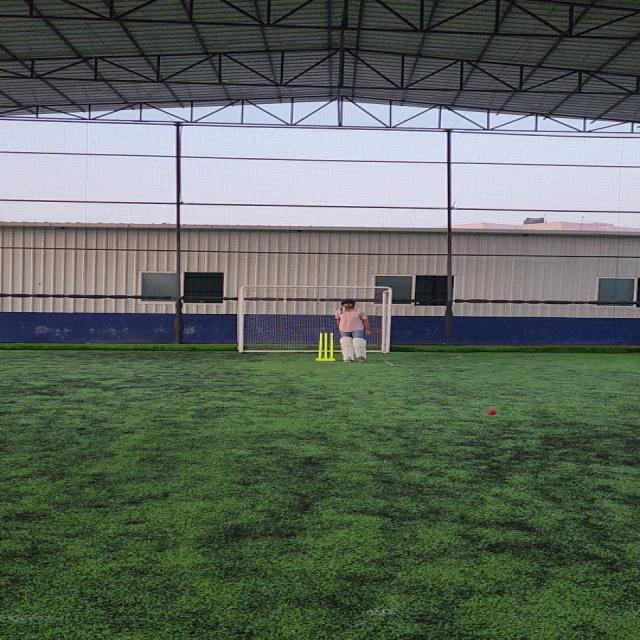ball: (488, 408, 500, 416)
stump: (313, 331, 338, 362)
